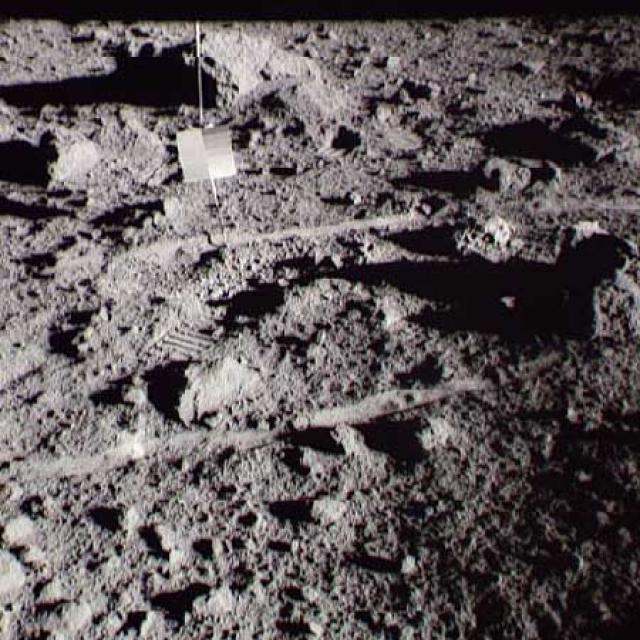rock: (534, 214, 638, 352), (172, 35, 318, 105), (160, 334, 244, 418), (544, 112, 638, 166), (29, 127, 98, 185), (469, 149, 550, 194), (443, 215, 518, 262), (406, 414, 471, 456), (296, 486, 354, 531), (182, 580, 238, 626), (321, 422, 365, 456)
